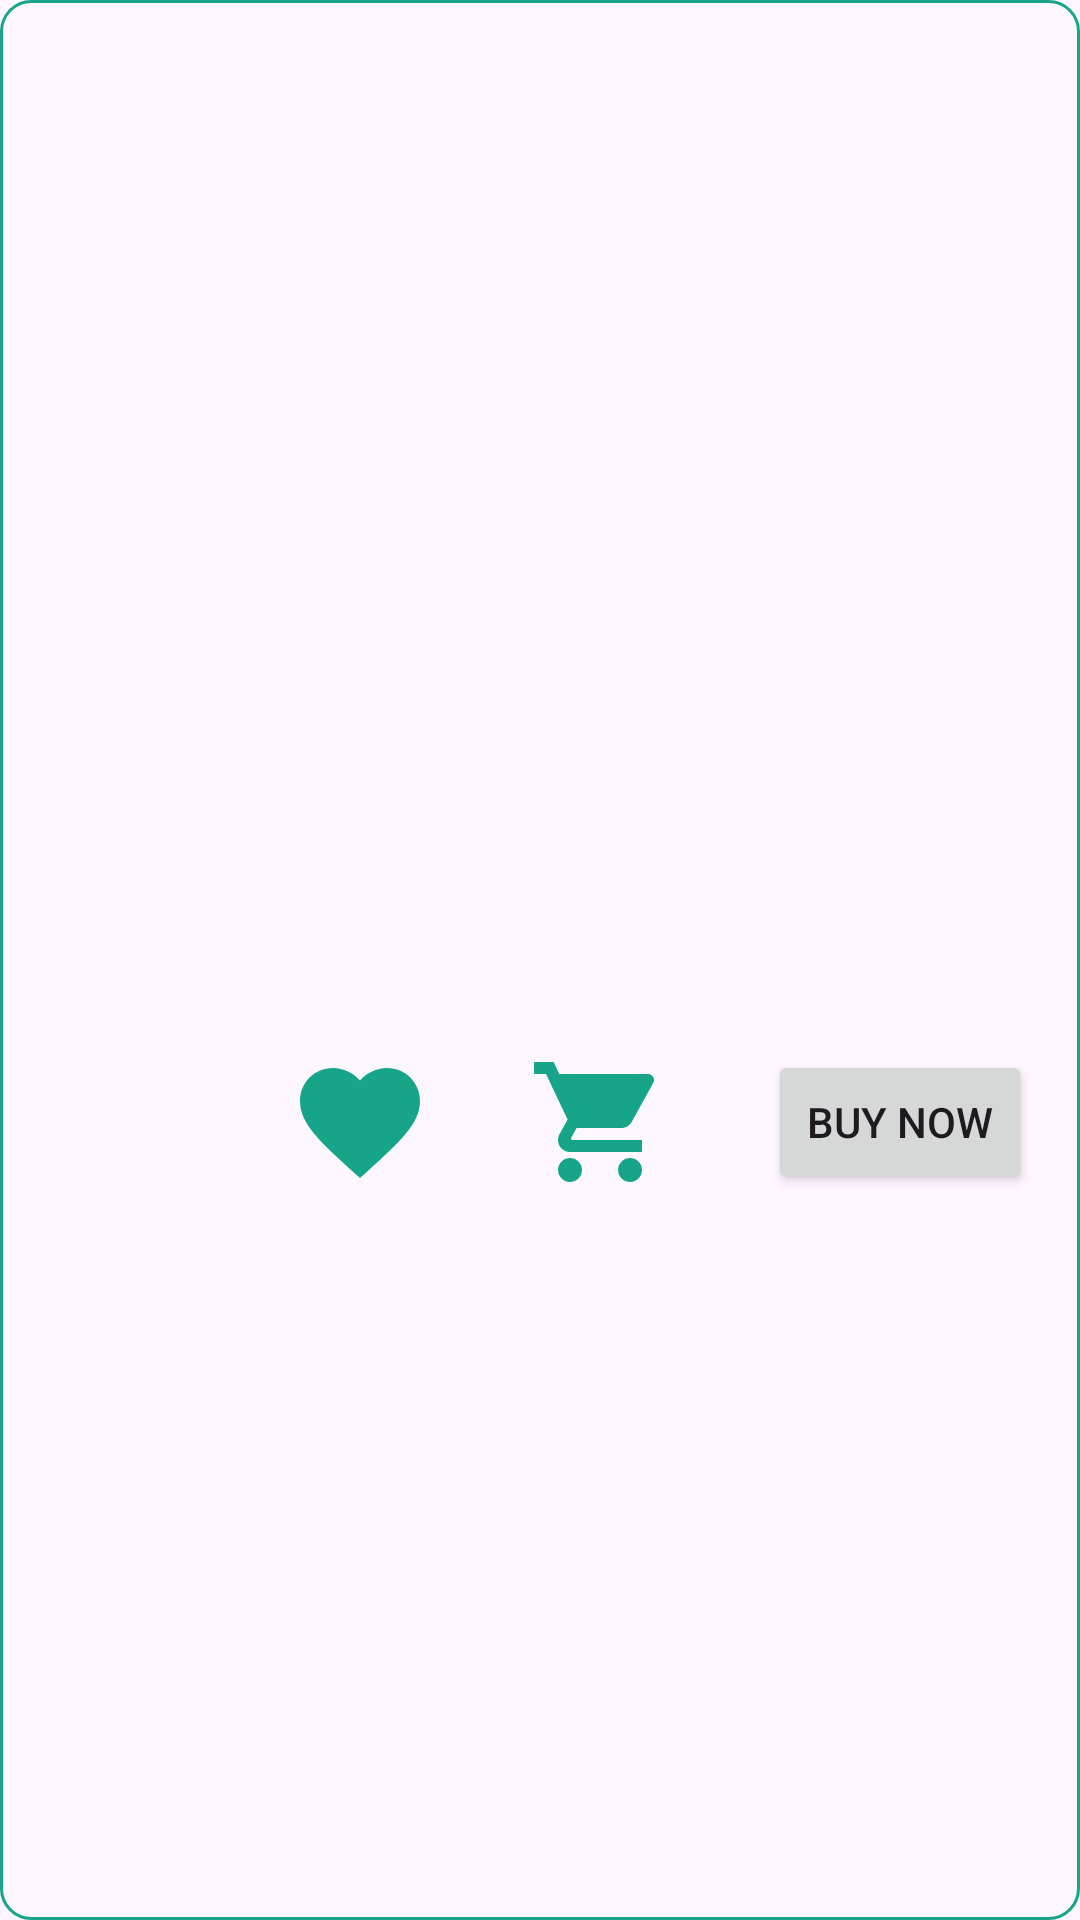

Screen size 1080x1920. Icon name, then its box in pixels as Rect(x1, y1, x2, y2):
cart: Rect(534, 1062, 654, 1182)
favorite: Rect(300, 1068, 420, 1178)
